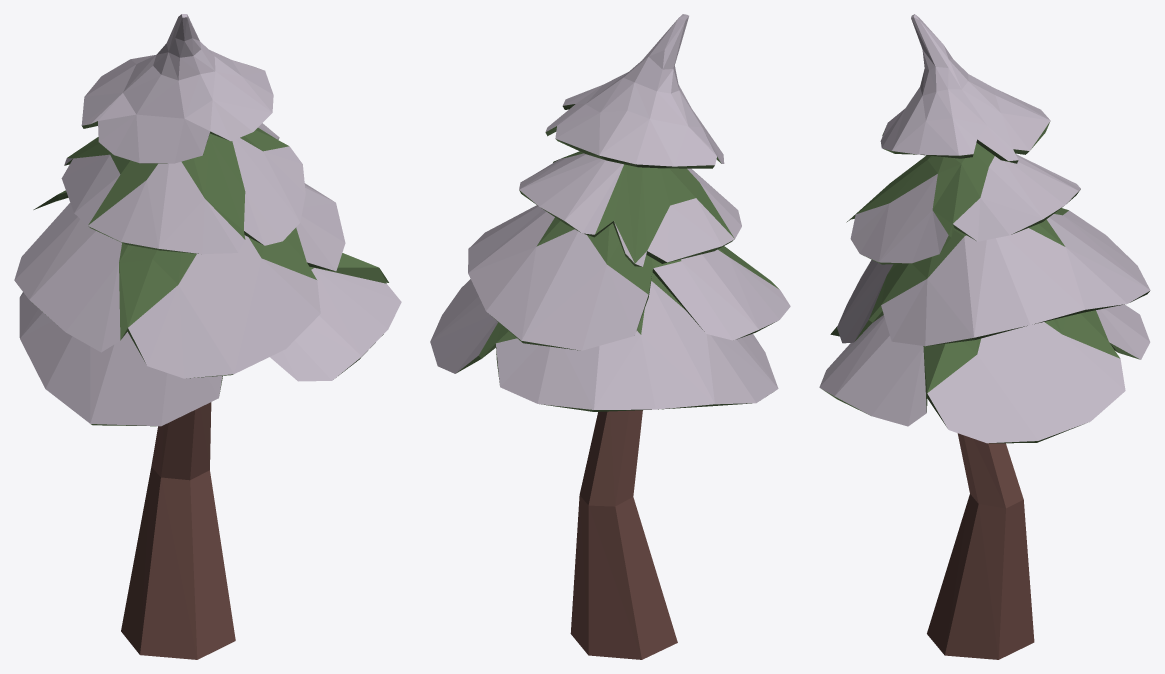
Rendered from PineTree_Snow_5.lod1.glb.
3 views of the same model, side by side, from view 1: azimuth 30°, elevation 25°; view 2: azimuth 150°, elevation 25°; view 3: azimuth 270°, elevation 25° (orthographic). The views are drawn at different scales.
Parts seen in each view (by area): view 1: PineTree_Snow_5; view 2: PineTree_Snow_5; view 3: PineTree_Snow_5.
Boxes of the visible parts, x1,y1,x2,y2 form: PineTree_Snow_5: (14,14,401,659); PineTree_Snow_5: (430,14,790,659); PineTree_Snow_5: (819,14,1150,659).
Size of the model in its own units: 1.47 by 2.7 by 1.33.
